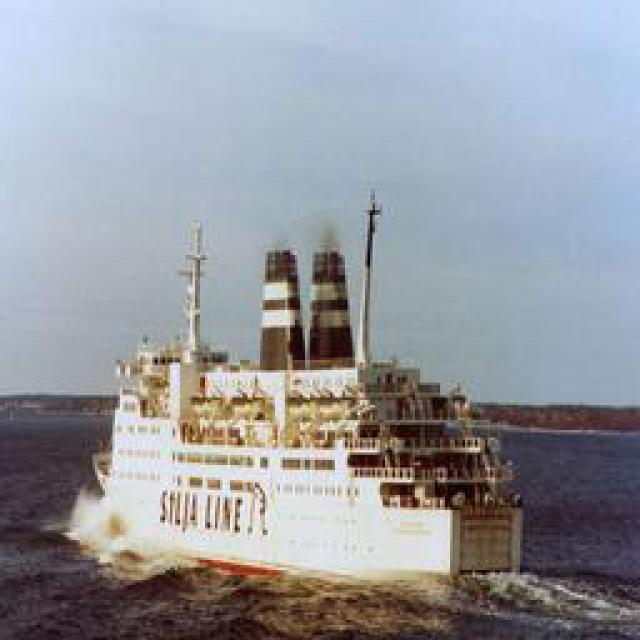Ship: (51, 218, 544, 593)
